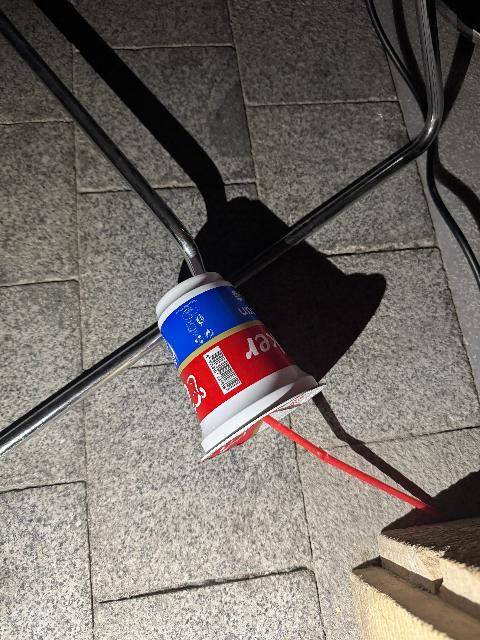Plastik: (158, 264, 332, 469)
